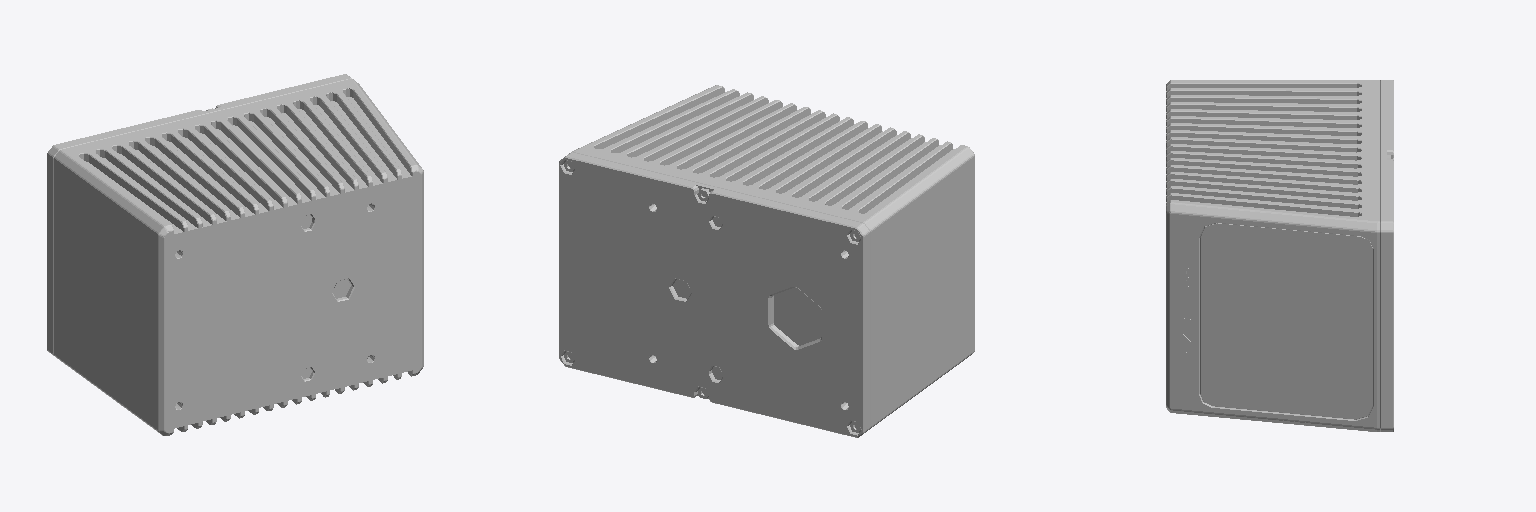
The model's file is mid70.obj.
3 views of the same model, side by side, from view 1: azimuth 30°, elevation 25°; view 2: azimuth 150°, elevation 25°; view 3: azimuth 270°, elevation 25° (orthographic).
Visible parts, largest first — view 1: 625, 153, 445, 155, 1, 263, 357, 449, 399, 297, 387; view 2: 1, 153, 155, 263, 357, 399, 445, 297, 387, 625; view 3: 618, 620, 153, 625, 445, 155, 1, 263, 357, 399, 584, 582 (+6 smaller).
Boxes of the visible parts, x1,y1,x2,y2 form: 625: [79, 97, 423, 435]; 153: [54, 79, 415, 435]; 445: [315, 79, 421, 395]; 155: [84, 137, 239, 231]; 1: [47, 74, 351, 355]; 263: [162, 121, 299, 213]; 357: [244, 105, 356, 196]; 449: [312, 210, 326, 397]; 399: [310, 93, 396, 182]; 297: [228, 117, 310, 199]; 387: [293, 101, 367, 185]; 1: [559, 152, 869, 437]; 153: [572, 85, 974, 429]; 155: [792, 128, 952, 213]; 263: [726, 113, 881, 193]; 357: [660, 100, 810, 173]; 399: [611, 91, 798, 346]; 445: [578, 85, 724, 148]; 297: [710, 112, 858, 433]; 387: [644, 96, 767, 161]; 625: [736, 93, 973, 212]; 618: [1201, 238, 1372, 404]; 620: [1201, 239, 1371, 404]; 153: [1171, 80, 1379, 221]; 625: [1166, 80, 1373, 420]; 445: [1167, 195, 1379, 429]; 155: [1167, 88, 1361, 123]; 1: [1380, 80, 1393, 431]; 263: [1167, 119, 1361, 152]; 357: [1167, 153, 1361, 184]; 399: [1167, 180, 1361, 208]; 584: [1201, 227, 1369, 248]; 582: [1205, 394, 1372, 415].
Bounding box in the file's own units: 97 × 64 × 62.7.